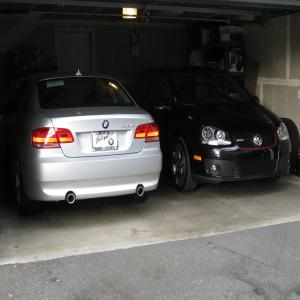Vehicle-registration-plate: (93, 132, 119, 152)
